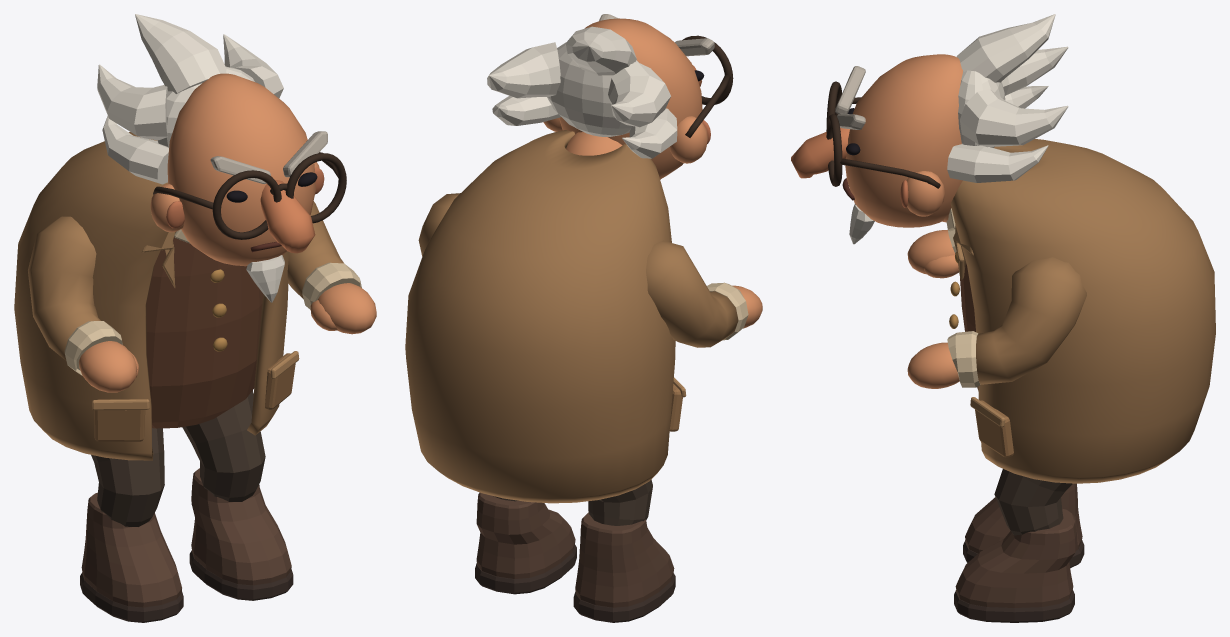
Rendered from grandpa-inventor.glb.
The picture shows the model from 3 angles, left to right: view 1: azimuth 30°, elevation 25°; view 2: azimuth 150°, elevation 25°; view 3: azimuth 270°, elevation 25°; orthographic projection. The views are drawn at different scales.
Visible parts, largest first — view 1: Coat · Hunched shell, Vest · Torso, Head · Sculpt, Boot · Upper R, Boot · Upper L, Coat · Sleeve L, Trousers · Leg R, Trousers · Leg L, Hair · Crown sweep, Hair · Side sweep L, Hair · Lower tuft L, Face · Hooked nose (+19 smaller); view 2: Coat · Hunched shell, Boot · Upper L, Boot · Upper R, Coat · Sleeve L, Head · Sculpt, Hair · Back, Hair · Side sweep R, Hair · Side sweep L, Hair · Crown sweep, Trousers · Leg L, Hair · Lower tuft L, Boot · Sole L (+10 smaller); view 3: Coat · Hunched shell, Head · Sculpt, Coat · Sleeve R, Boot · Upper R, Hair · Side sweep R, Hair · Crown sweep, Trousers · Leg R, Hair · Lower tuft R, Boot · Upper L, Boot · Sole R, Hand · Fist R, Face · Hooked nose (+13 smaller).
Boxes of the visible parts, x1=… form: Coat · Hunched shell: x1=14, y1=132, x2=288, y2=460; Vest · Torso: x1=146, y1=232, x2=263, y2=428; Head · Sculpt: x1=167, y1=73, x2=315, y2=266; Boot · Upper R: x1=191, y1=468, x2=291, y2=585; Boot · Upper L: x1=81, y1=492, x2=181, y2=607; Coat · Sleeve L: x1=28, y1=216, x2=100, y2=360; Trousers · Leg R: x1=182, y1=390, x2=265, y2=501; Trousers · Leg L: x1=91, y1=428, x2=164, y2=526; Hair · Crown sweep: x1=135, y1=14, x2=226, y2=93; Hair · Side sweep L: x1=97, y1=64, x2=167, y2=140; Hair · Lower tuft L: x1=102, y1=116, x2=168, y2=184; Face · Hooked nose: x1=260, y1=180, x2=315, y2=253; Coat · Hunched shell: x1=405, y1=130, x2=675, y2=503; Boot · Upper L: x1=575, y1=512, x2=674, y2=607; Boot · Upper R: x1=476, y1=492, x2=575, y2=578; Coat · Sleeve L: x1=646, y1=240, x2=738, y2=347; Head · Sculpt: x1=559, y1=18, x2=702, y2=179; Hair · Back: x1=547, y1=42, x2=638, y2=136; Hair · Side sweep R: x1=487, y1=42, x2=560, y2=98; Hair · Side sweep L: x1=608, y1=62, x2=670, y2=127; Hair · Crown sweep: x1=566, y1=26, x2=636, y2=75; Trousers · Leg L: x1=588, y1=479, x2=652, y2=525; Hair · Lower tuft L: x1=622, y1=108, x2=677, y2=158; Boot · Sole L: x1=573, y1=573, x2=675, y2=622; Coat · Hunched shell: x1=950, y1=139, x2=1215, y2=483; Head · Sculpt: x1=845, y1=54, x2=962, y2=227; Coat · Sleeve R: x1=976, y1=257, x2=1086, y2=384; Boot · Upper R: x1=955, y1=508, x2=1077, y2=607; Hair · Side sweep R: x1=960, y1=89, x2=1068, y2=147; Hair · Crown sweep: x1=956, y1=14, x2=1055, y2=82; Trousers · Leg R: x1=994, y1=469, x2=1072, y2=535; Hair · Lower tuft R: x1=947, y1=144, x2=1048, y2=182; Boot · Upper L: x1=965, y1=483, x2=1082, y2=553; Boot · Sole R: x1=954, y1=590, x2=1074, y2=622; Hand · Fist R: x1=907, y1=342, x2=959, y2=388; Face · Hooked nose: x1=791, y1=127, x2=849, y2=178.
Size of the model in its own units: 0.7495 by 1.39 by 0.9671.
